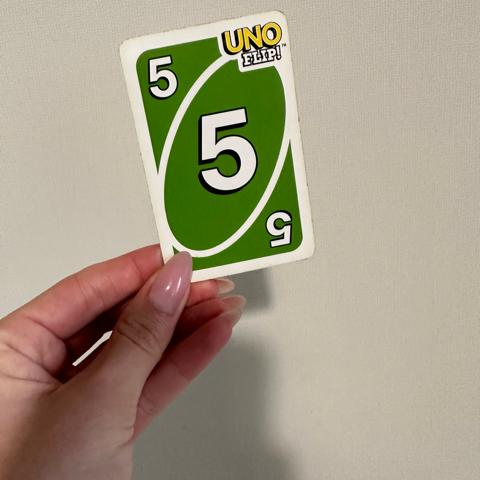lgreen-5: (137, 48, 196, 111)
